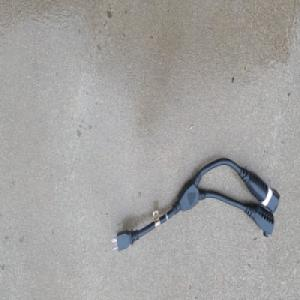Wire: (110, 156, 281, 254)
